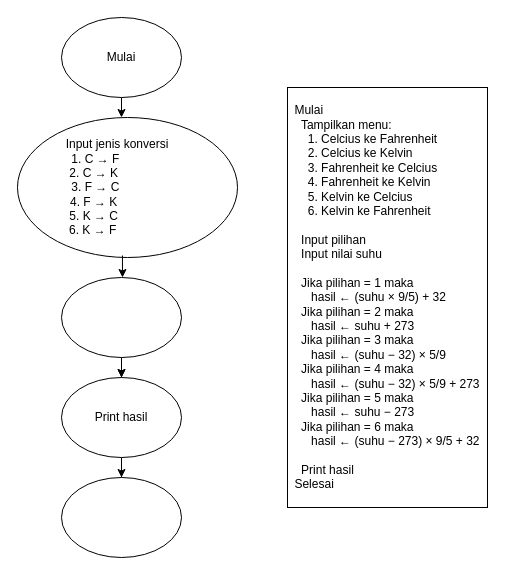
This 505x575 diagram has some shape labels left out. The centre of each missing label's shape, as x and y in pixels:
Input nilai suhu: point (121, 317)
Selesai: point (121, 517)
